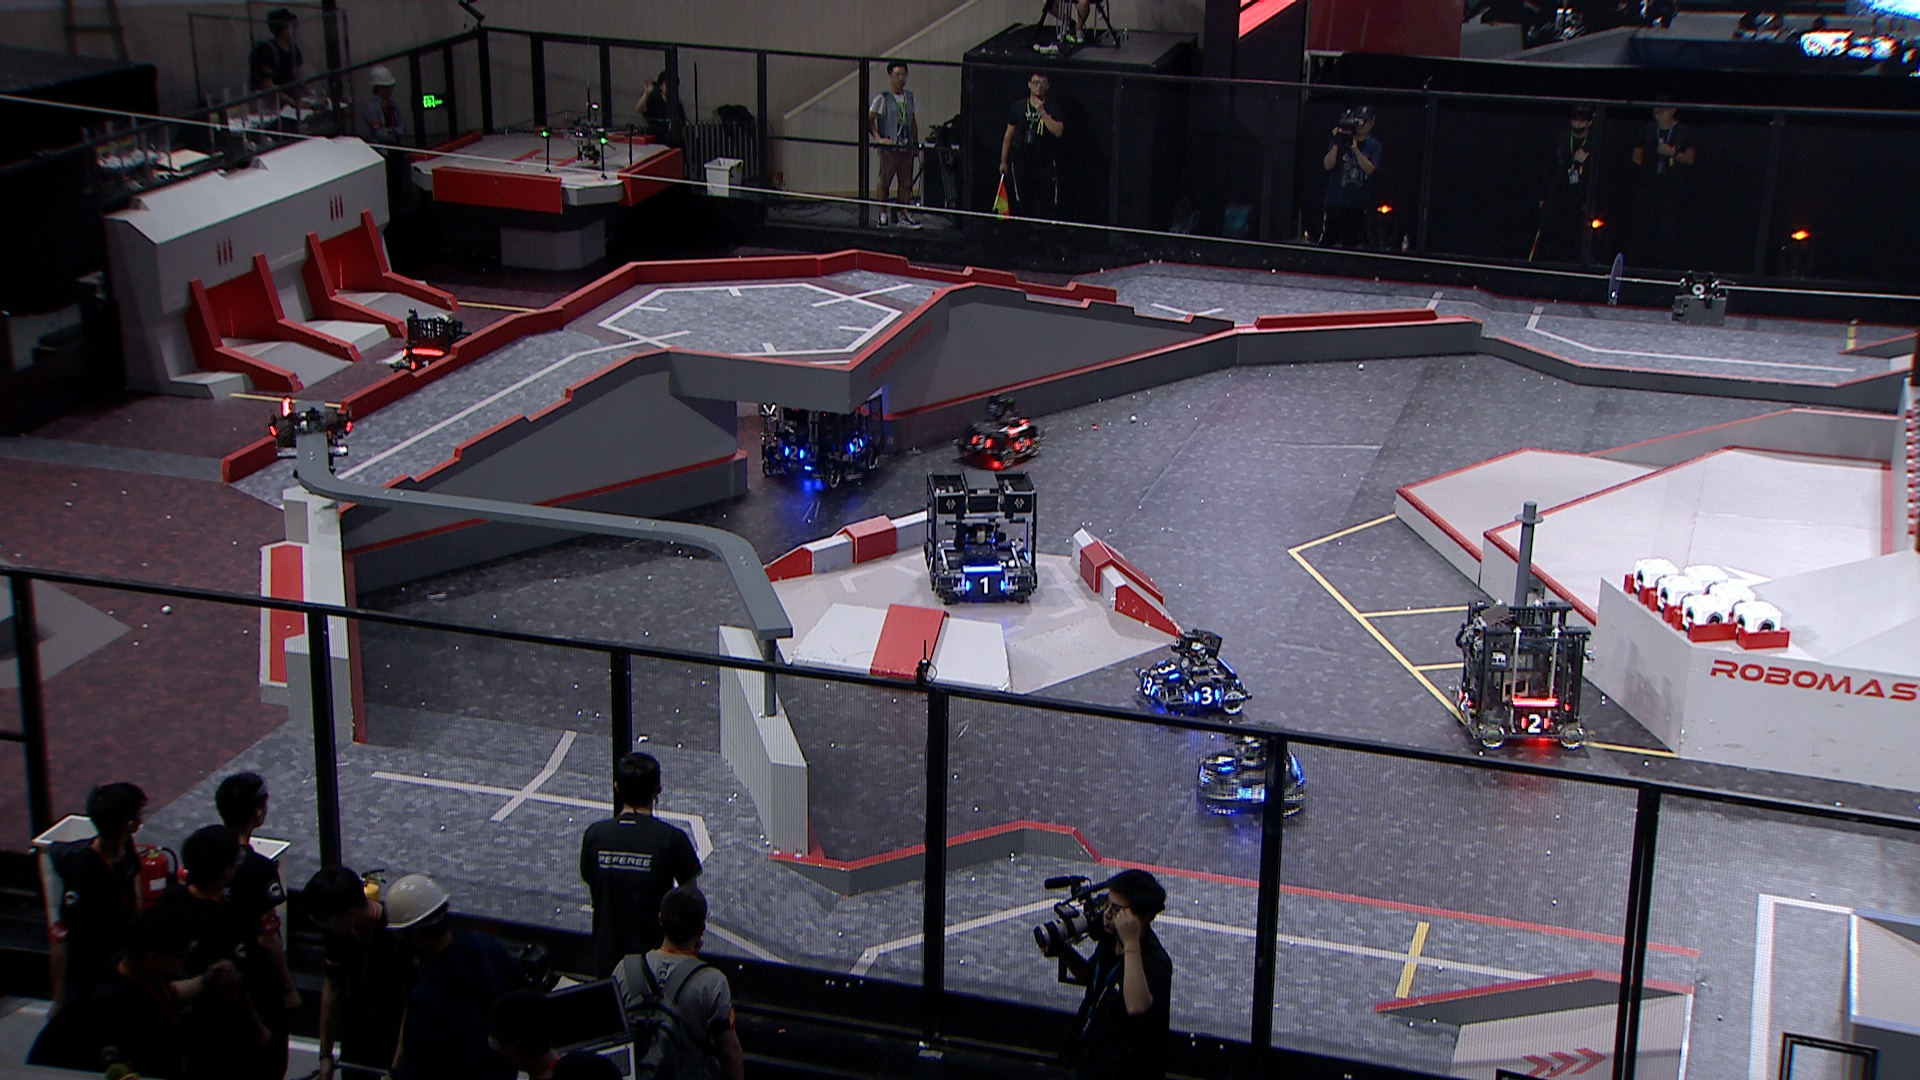armor: (1240, 783, 1273, 804), (1514, 716, 1549, 733), (965, 578, 1004, 593), (1211, 750, 1233, 771), (1196, 684, 1218, 704), (1139, 673, 1155, 698), (923, 555, 940, 578), (779, 444, 803, 460), (1456, 688, 1472, 712), (1159, 659, 1176, 680), (971, 433, 992, 448), (1013, 434, 1031, 451), (410, 357, 433, 371), (849, 436, 864, 455)
car: (1452, 595, 1596, 756), (918, 462, 1040, 604), (749, 377, 887, 495), (1192, 716, 1305, 825), (1134, 629, 1250, 731), (392, 305, 480, 390), (953, 392, 1048, 471)
watcher: (261, 394, 353, 491)
